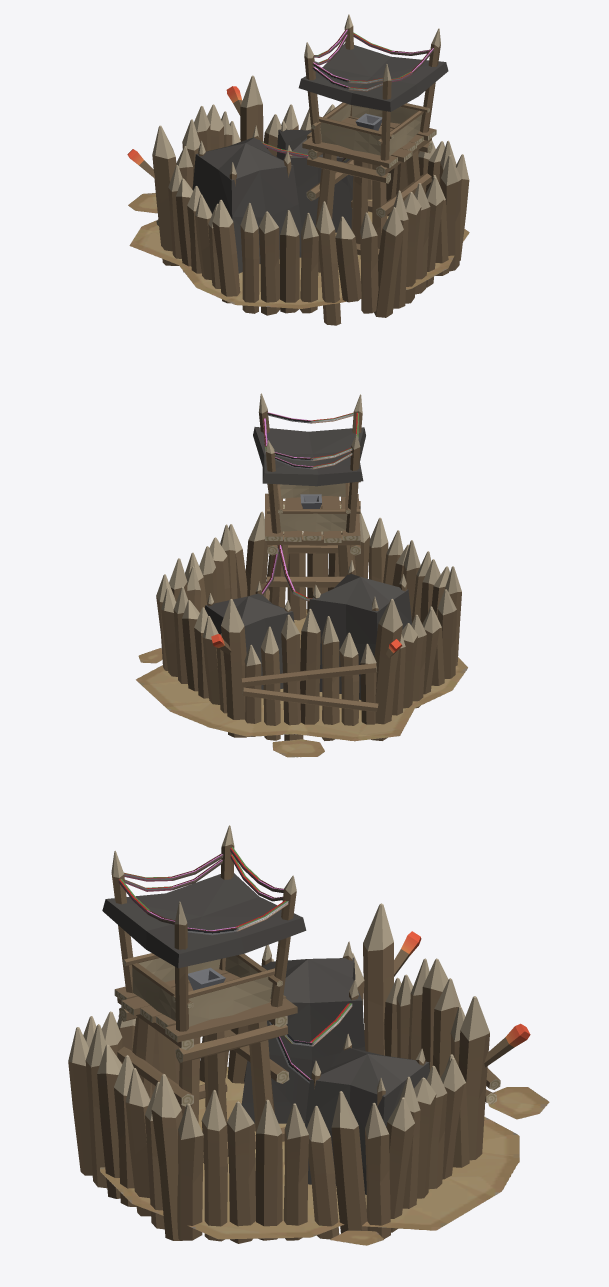
File: hauntBanditCamp.fbx
3 renders of one model, top to bottom at view 1: azimuth 30°, elevation 25°; view 2: azimuth 150°, elevation 25°; view 3: azimuth 270°, elevation 25°, orthographic. The views are drawn at different scales.
Parts seen in each view (by area): view 1: hauntBanditCamp, groundPlane; view 2: hauntBanditCamp, groundPlane; view 3: hauntBanditCamp, groundPlane.
Part boxes in pixels (x1=…): hauntBanditCamp: x1=127, y1=14, x2=469, y2=325; groundPlane: x1=128, y1=193, x2=469, y2=308; hauntBanditCamp: x1=156, y1=393, x2=461, y2=740; groundPlane: x1=135, y1=609, x2=467, y2=757; hauntBanditCamp: x1=68, y1=825, x2=530, y2=1243; groundPlane: x1=100, y1=1067, x2=549, y2=1245.
Bounding box in the file's own units: 4.29 × 2.8 × 4.29.
